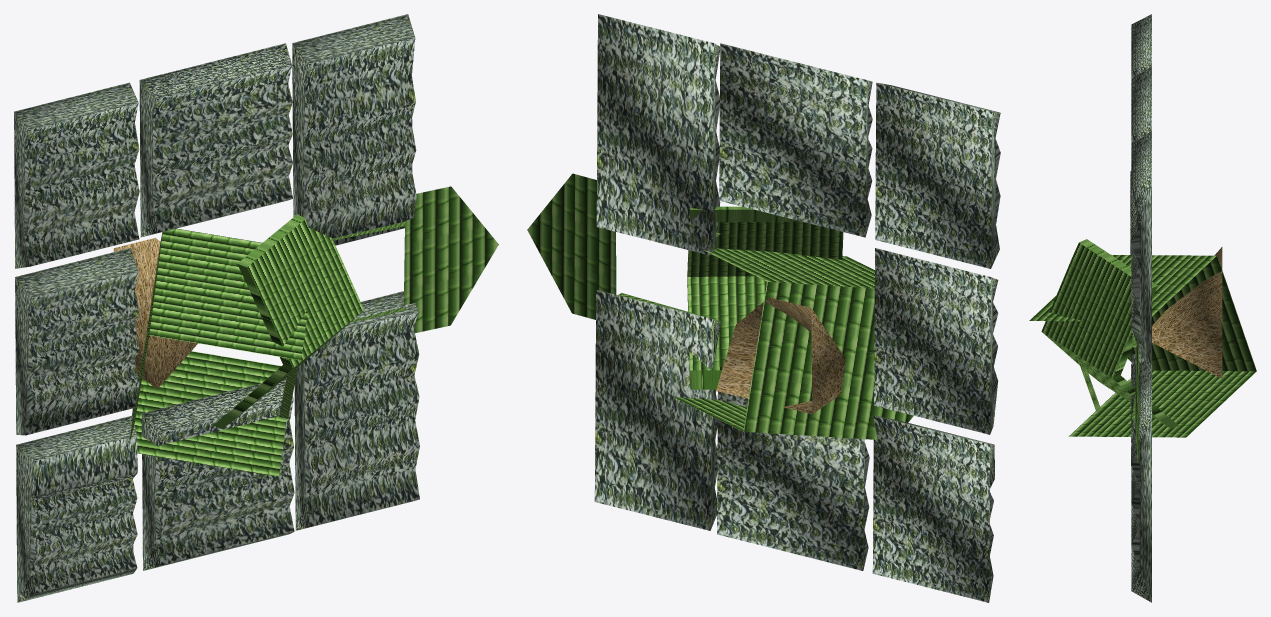
The model's file is farm_000019.obj.
3 renders of one model, left to right at view 1: azimuth 30°, elevation 25°; view 2: azimuth 150°, elevation 25°; view 3: azimuth 270°, elevation 25°, orthographic. The views are drawn at different scales.
Visible parts, largest first — view 1: Cube.004_Cube.006, house.002_Cube.002, house_Cube, house.001_Cube.001, Cone; view 2: Cube.004_Cube.006, house.002_Cube.002, house_Cube, house.001_Cube.001, Cone; view 3: house.002_Cube.002, Cube.004_Cube.006, house_Cube, Cone, house.001_Cube.001.
Boxes of the visible parts, x1,y1,x2,y2 form: Cube.004_Cube.006: [14, 14, 419, 602]; house.002_Cube.002: [128, 228, 307, 476]; house_Cube: [213, 214, 363, 428]; house.001_Cube.001: [329, 186, 498, 333]; Cone: [113, 238, 197, 388]; Cube.004_Cube.006: [594, 14, 1000, 602]; house.002_Cube.002: [673, 248, 913, 439]; house_Cube: [687, 206, 843, 389]; house.001_Cube.001: [527, 173, 720, 352]; Cone: [716, 297, 845, 414]; house.002_Cube.002: [1029, 254, 1256, 437]; Cube.004_Cube.006: [1130, 14, 1151, 602]; house_Cube: [1041, 239, 1178, 428]; Cone: [1152, 247, 1222, 378]; house.001_Cube.001: [1131, 330, 1139, 462].
Bounding box in the file's own units: 10.05 × 10 × 4.83.
